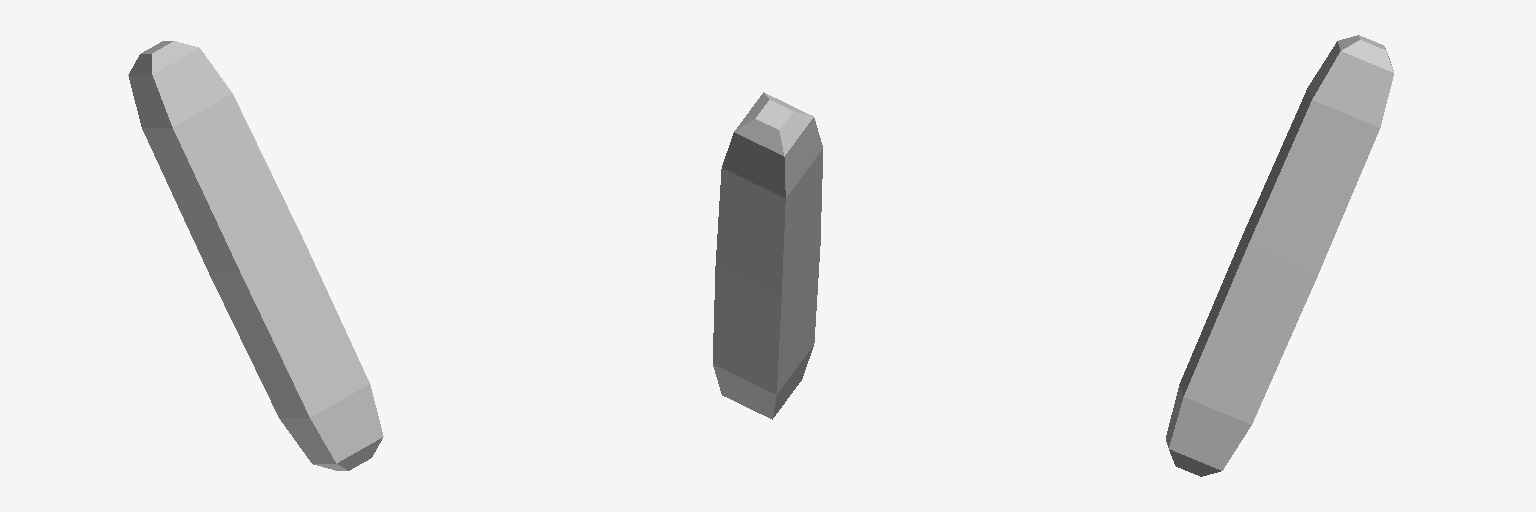
File: left_foot_cp_1_joint.obj
The picture shows the model from 3 angles: view 1: azimuth 30°, elevation 25°; view 2: azimuth 150°, elevation 25°; view 3: azimuth 270°, elevation 25°; orthographic projection.
Parts seen in each view (by area): view 1: ../rami/model/left_foot_cp_1_joint; view 2: ../rami/model/left_foot_cp_1_joint; view 3: ../rami/model/left_foot_cp_1_joint.
Boxes of the visible parts, x1,y1,x2,y2 form: ../rami/model/left_foot_cp_1_joint: [128, 41, 383, 470]; ../rami/model/left_foot_cp_1_joint: [713, 92, 822, 419]; ../rami/model/left_foot_cp_1_joint: [1166, 35, 1393, 476].
Size of the model in its own units: 0.0002 by 0.0005 by 0.0002.